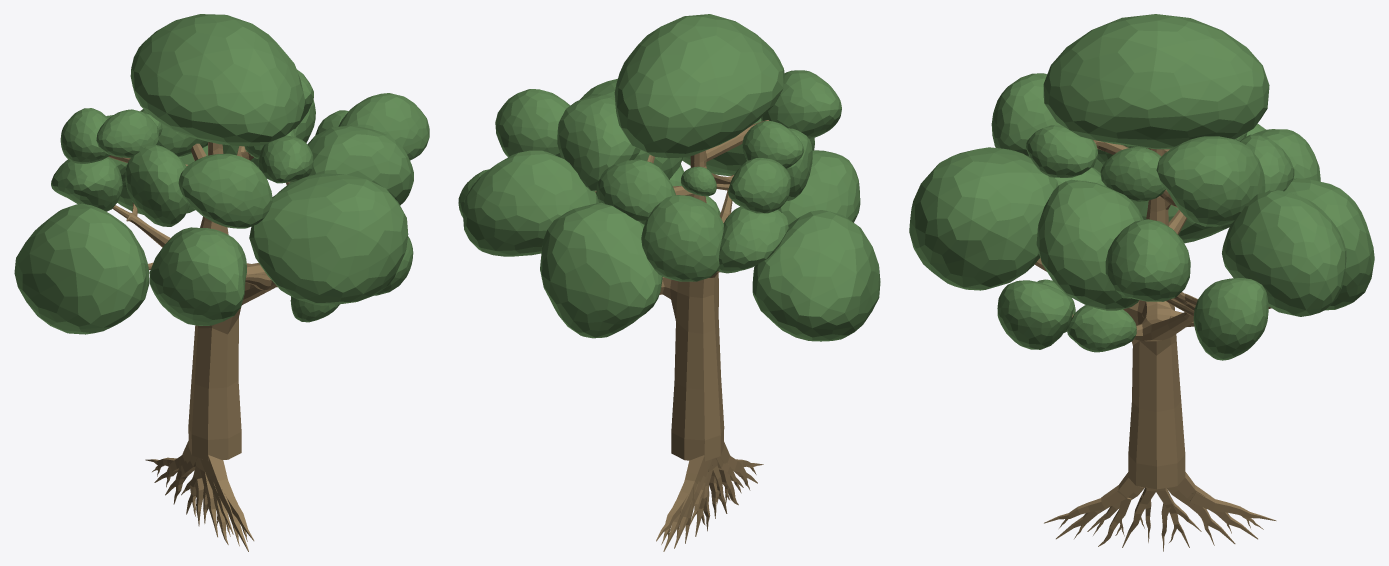
Rendered from tree_large_v2.glb.
3 views of the same model, side by side, from view 1: azimuth 30°, elevation 25°; view 2: azimuth 150°, elevation 25°; view 3: azimuth 270°, elevation 25° (orthographic). The views are drawn at different scales.
Visible parts, largest first — view 1: Icosphere.045, Icosphere.041, Icosphere.038, Trunk.001, Leaves4, Leaves5, Icosphere.044, Icosphere.024, Icosphere.043, Leaves3, Icosphere.033, Leaves6 (+6 smaller); view 2: Icosphere.045, Icosphere.038, Leaves1, Trunk.001, Icosphere.042, Leaves2, Icosphere.030, Icosphere.043, Leaves4, Leaves5, Leaves3, Icosphere.031 (+7 smaller); view 3: Icosphere.045, Icosphere.041, Icosphere.042, Trunk.001, Icosphere.044, Icosphere.030, Icosphere.043, Icosphere.025, Leaves1, Icosphere.028, Leaves5, Leaves6 (+9 smaller).
Boxes of the visible parts, bbox=[...] form: Icosphere.045: bbox=[130, 14, 305, 146]; Icosphere.041: bbox=[249, 173, 408, 304]; Icosphere.038: bbox=[14, 203, 149, 334]; Trunk.001: bbox=[108, 142, 290, 460]; Leaves4: bbox=[149, 227, 246, 325]; Leaves5: bbox=[178, 153, 272, 228]; Icosphere.044: bbox=[290, 125, 413, 205]; Icosphere.024: bbox=[125, 144, 189, 226]; Icosphere.043: bbox=[338, 93, 429, 160]; Leaves3: bbox=[51, 157, 122, 211]; Icosphere.033: bbox=[96, 109, 158, 157]; Leaves6: bbox=[258, 135, 313, 183]; Icosphere.045: bbox=[614, 14, 784, 158]; Icosphere.038: bbox=[752, 210, 880, 341]; Leaves1: bbox=[540, 202, 662, 338]; Trunk.001: bbox=[595, 150, 733, 461]; Icosphere.042: bbox=[463, 150, 598, 256]; Leaves2: bbox=[641, 195, 723, 281]; Icosphere.030: bbox=[557, 95, 640, 191]; Icosphere.043: bbox=[495, 89, 570, 157]; Leaves4: bbox=[778, 150, 860, 224]; Leaves5: bbox=[761, 70, 841, 138]; Leaves3: bbox=[718, 206, 788, 273]; Icosphere.031: bbox=[596, 159, 675, 224]; Icosphere.045: bbox=[1043, 14, 1269, 149]; Icosphere.041: bbox=[909, 147, 1058, 290]; Icosphere.042: bbox=[1222, 190, 1346, 316]; Trunk.001: bbox=[1035, 148, 1197, 489]; Icosphere.044: bbox=[1036, 179, 1143, 310]; Icosphere.030: bbox=[1156, 136, 1265, 226]; Icosphere.043: bbox=[1105, 219, 1190, 301]; Icosphere.025: bbox=[1193, 278, 1268, 360]; Leaves1: bbox=[1284, 178, 1374, 310]; Icosphere.028: bbox=[997, 280, 1073, 349]; Leaves5: bbox=[991, 73, 1061, 157]; Leaves6: bbox=[1026, 125, 1097, 177].
Bounding box in the file's own units: 19.33 × 24.22 × 18.95.
